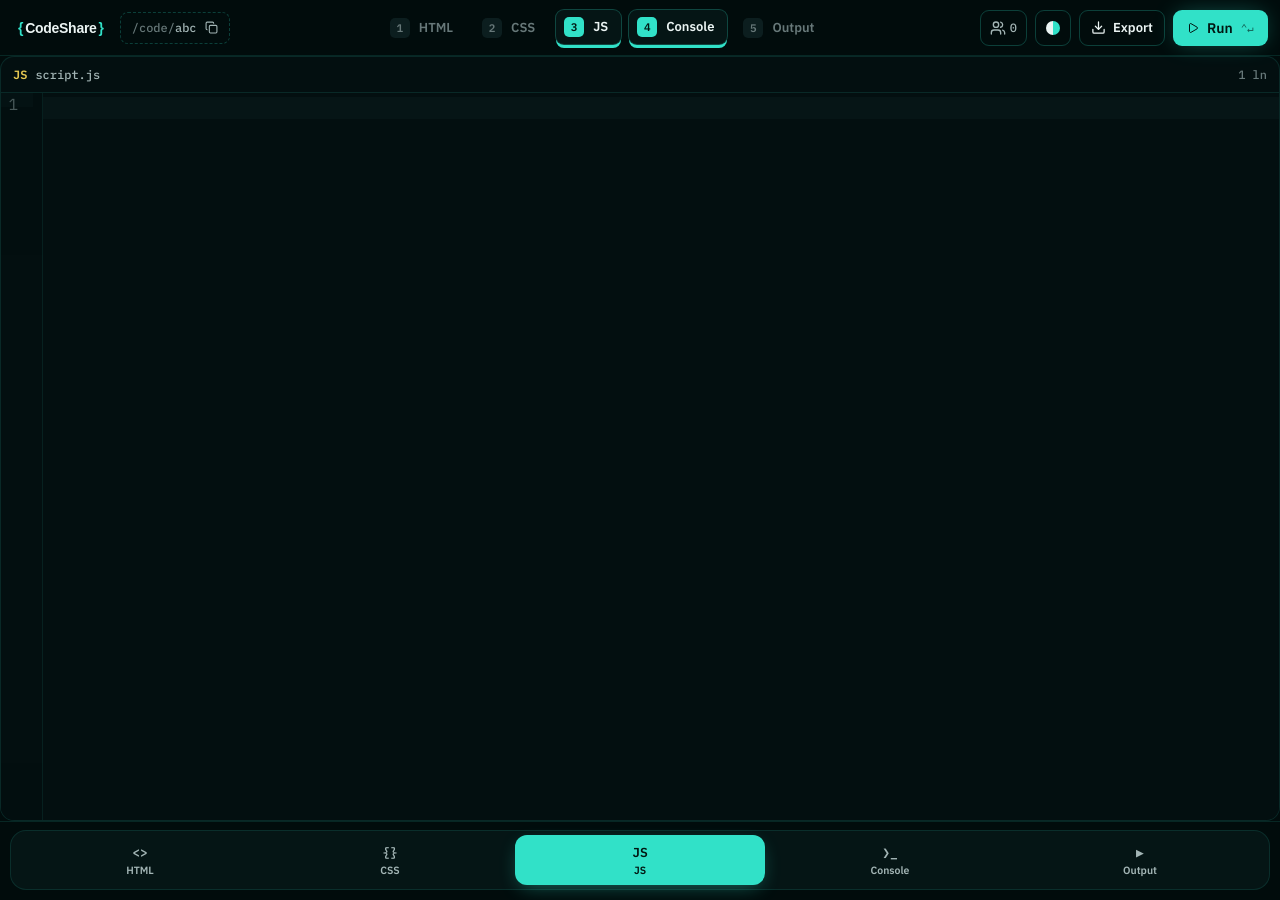
Test: resizing from mobile up to desktop restores the untouched multi-pane layout
Click the button "<> HTML".
click(140, 860)  # box 15,835 -> 265,885
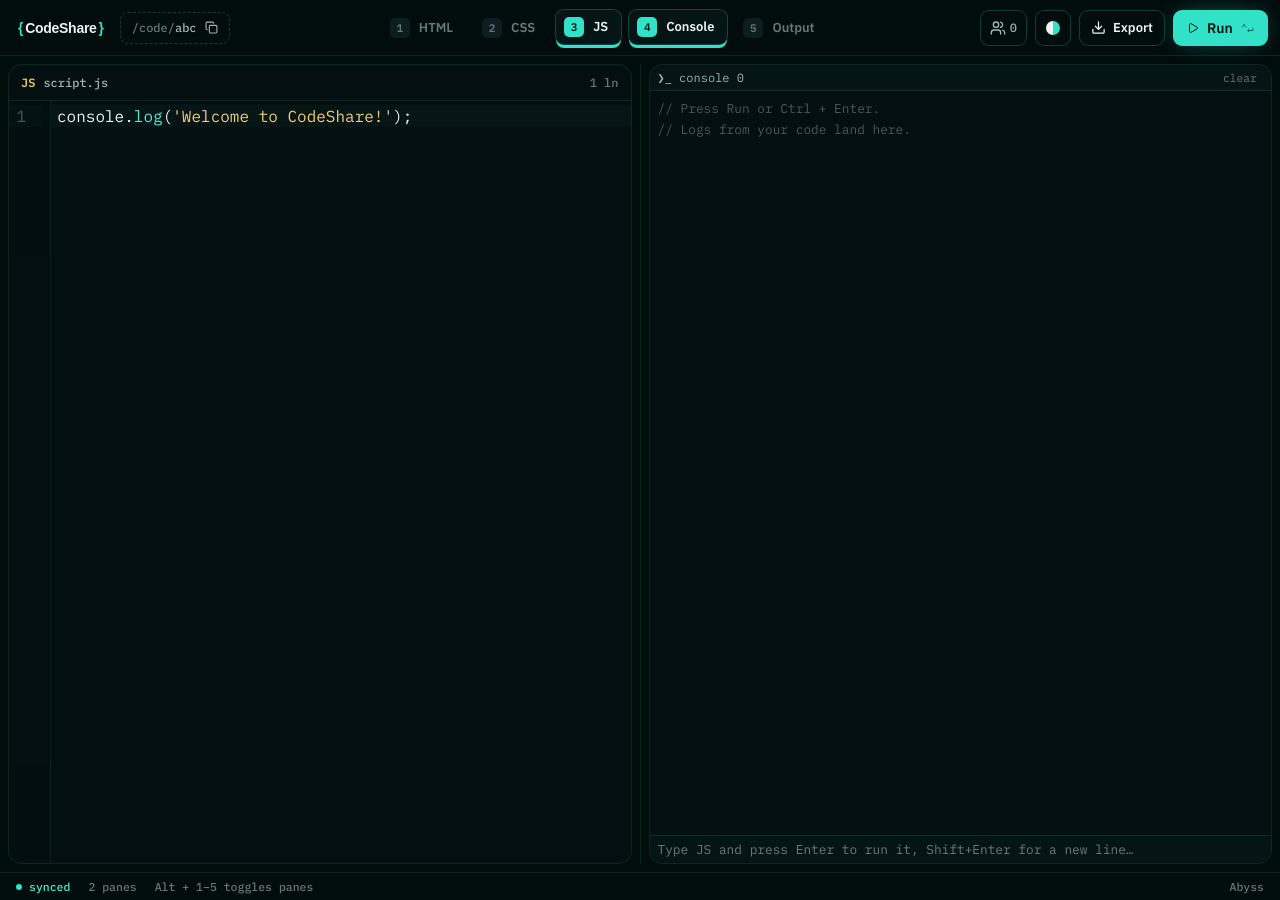
Expected: the text box named "Console input" is shown, 650,835 -> 1271,863
